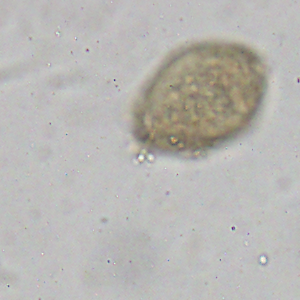Fasciola_hepatica_egg: (131, 38, 267, 154)
